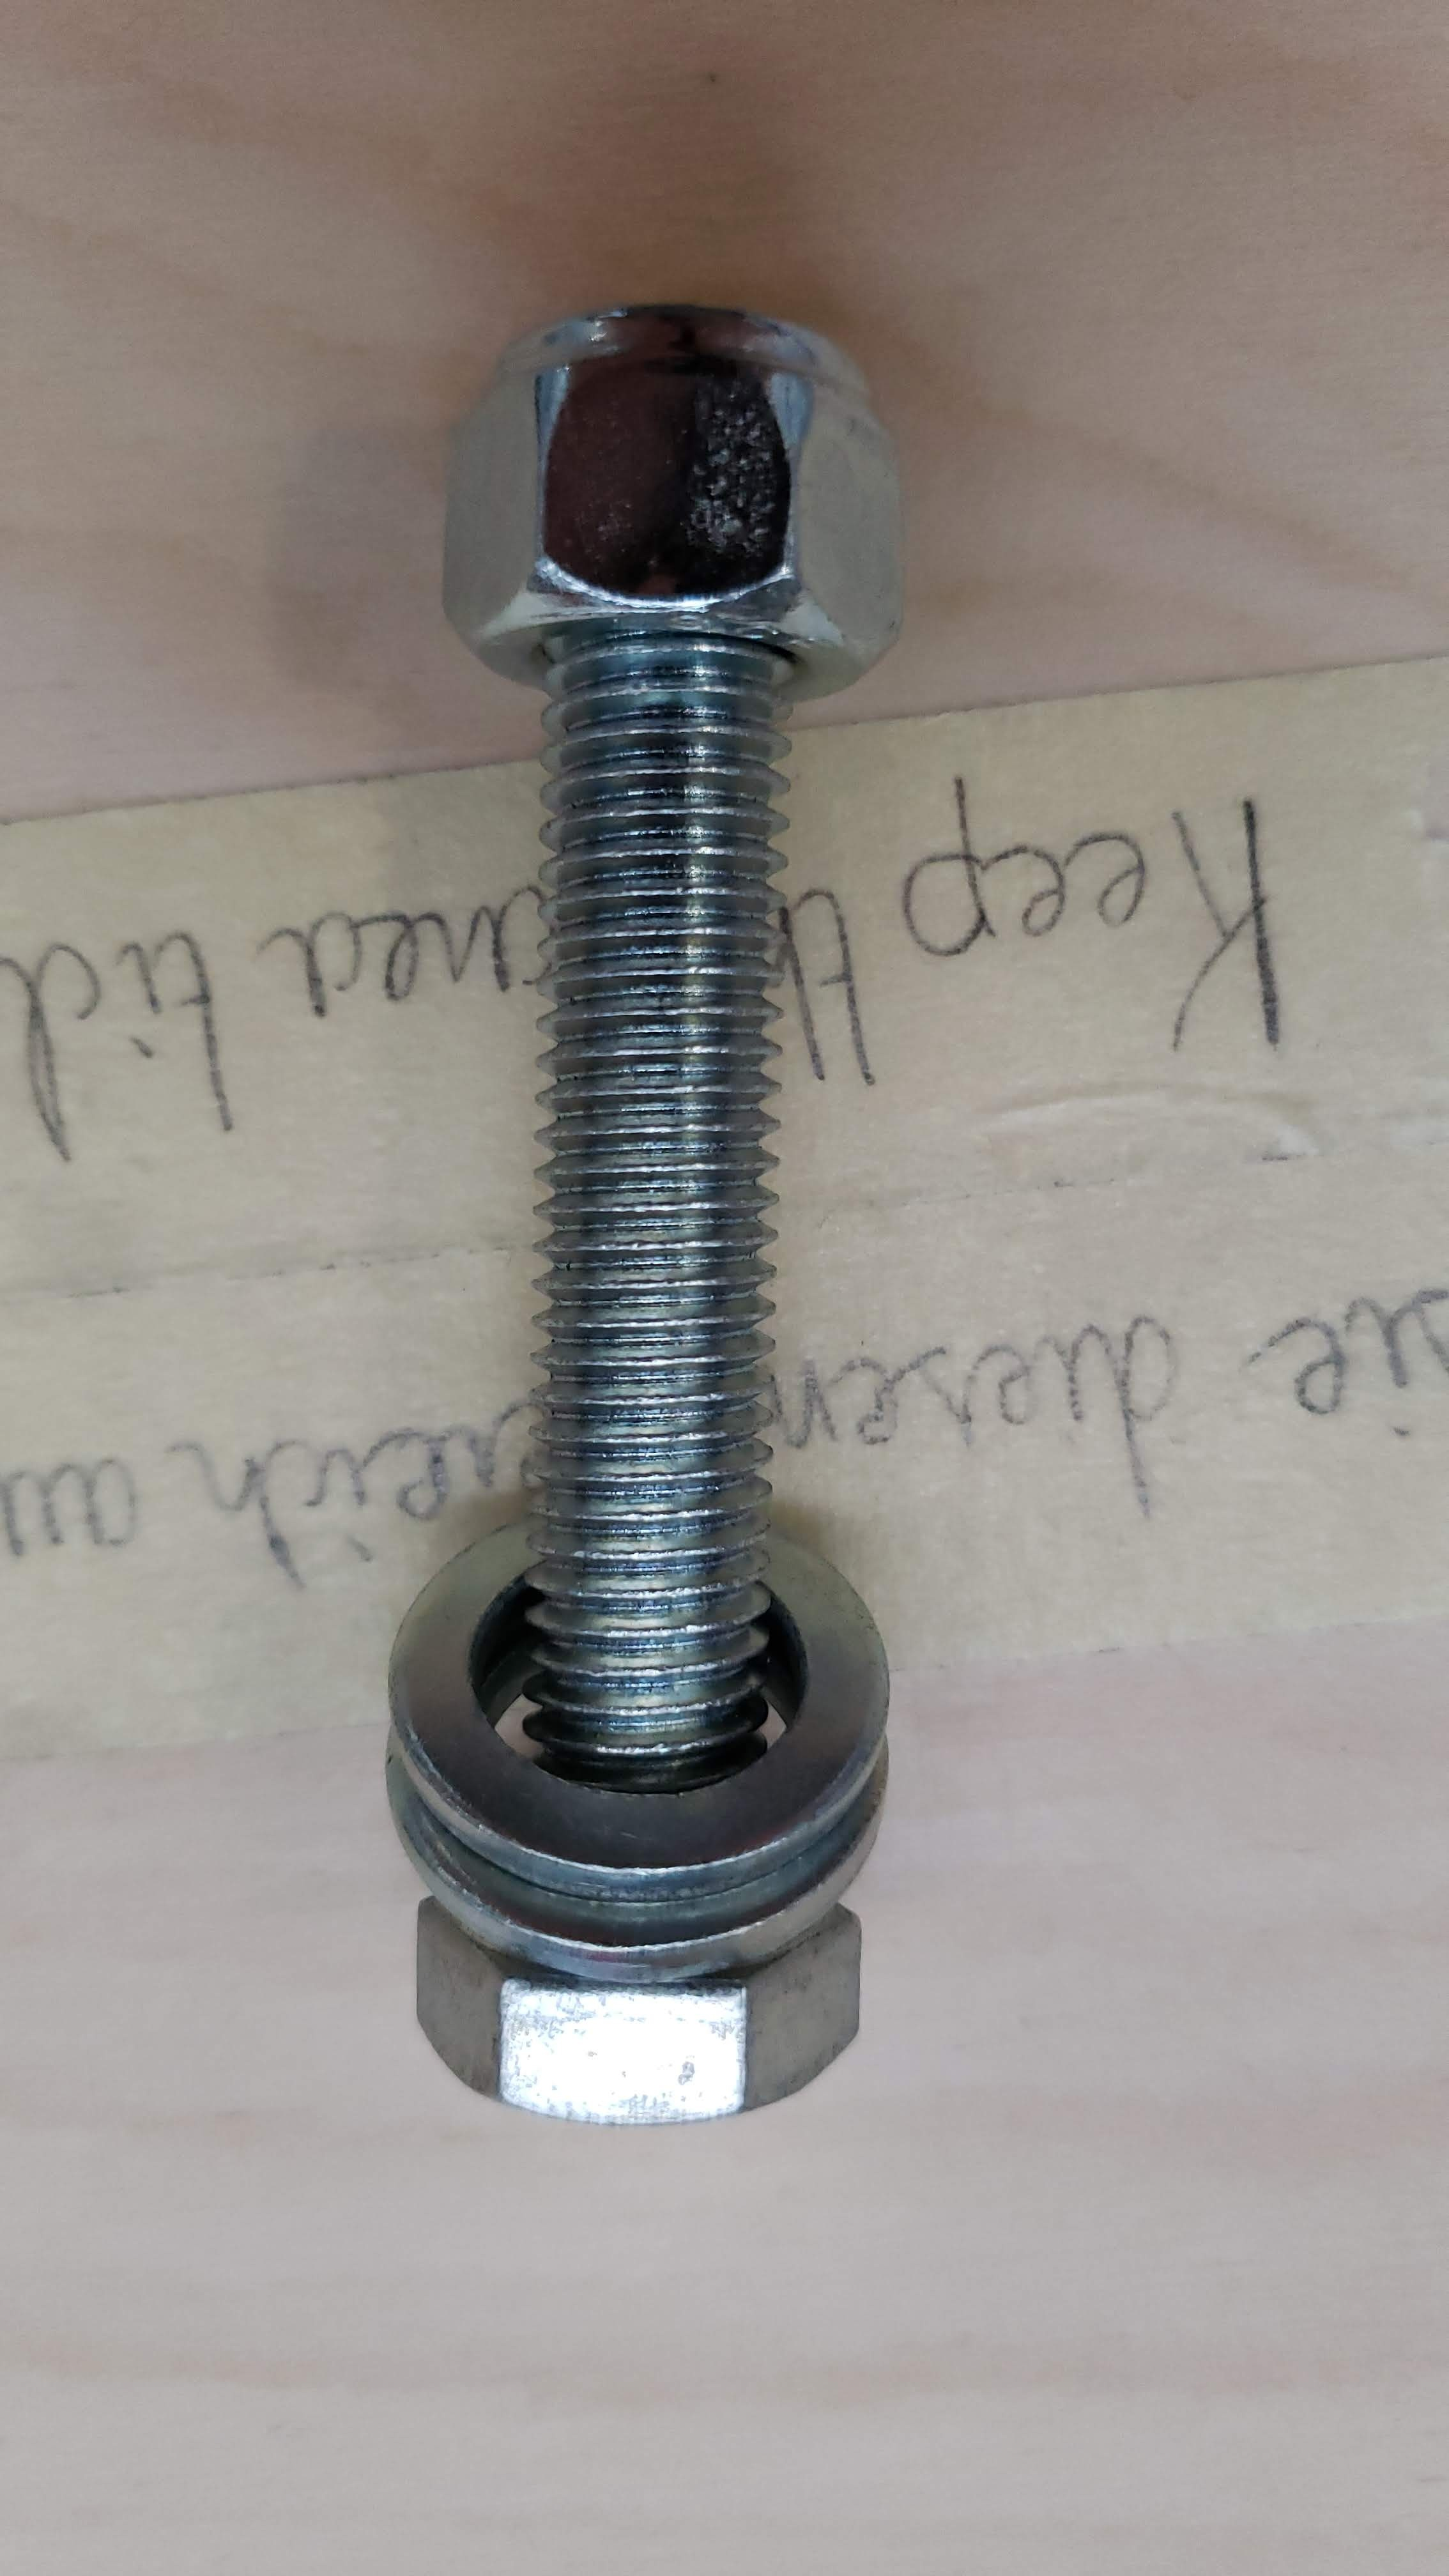FinishedAssembly: (345, 246, 989, 2245)
